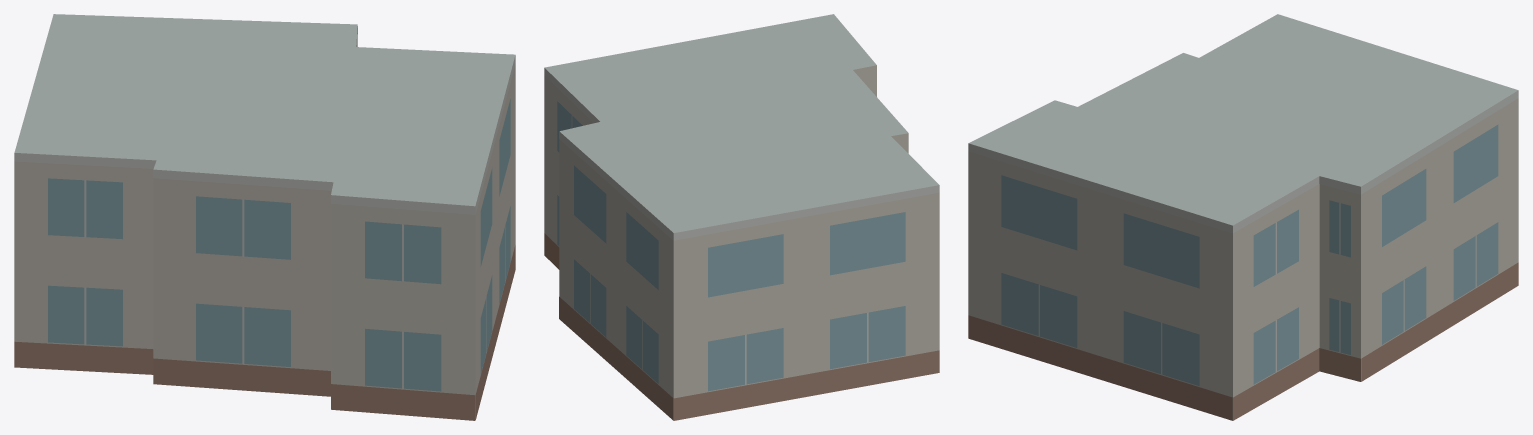
The model's file is survey-upis-32935316.glb.
The picture shows the model from 3 angles, left to right: view 1: azimuth 30°, elevation 25°; view 2: azimuth 150°, elevation 25°; view 3: azimuth 270°, elevation 25°; orthographic projection. The views are drawn at different scales.
Parts seen in each view (by area): view 1: survey-upis-32935316.tmp; view 2: survey-upis-32935316.tmp; view 3: survey-upis-32935316.tmp.
Boxes of the visible parts, box(x1,y1,x2,y2) form: survey-upis-32935316.tmp: box(14, 14, 515, 420); survey-upis-32935316.tmp: box(544, 14, 939, 420); survey-upis-32935316.tmp: box(968, 14, 1518, 420).
Bounding box in the file's own units: 14.18 × 6.1 × 15.59.
